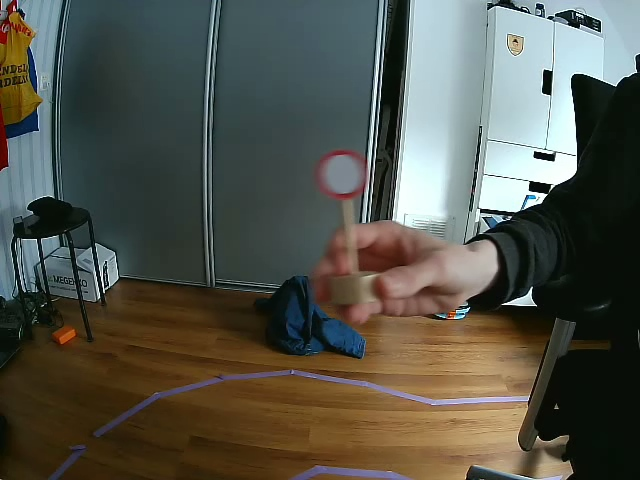wegdicht: (319, 150, 369, 200)
